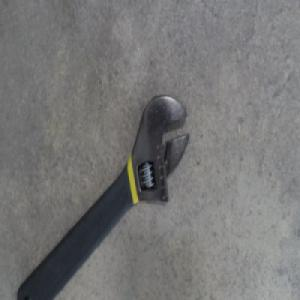AdjustableWrench: (22, 93, 190, 293)
